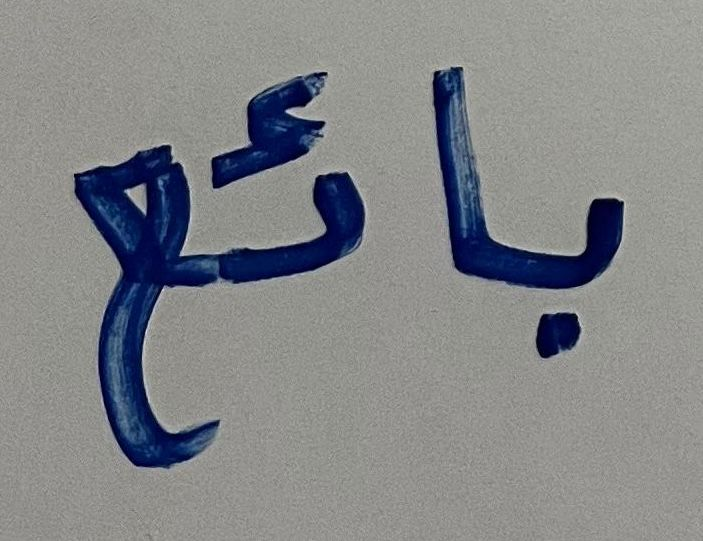alef: (51, 95, 202, 493)
dal: (425, 27, 496, 331)
hah: (504, 146, 656, 406)
zain: (206, 52, 403, 340)
